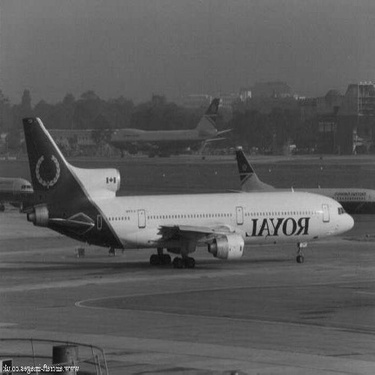airplane: (14, 104, 359, 265), (224, 143, 373, 223), (87, 89, 237, 156), (1, 165, 39, 210)
